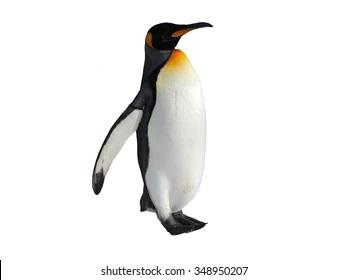king: (81, 14, 252, 247)
